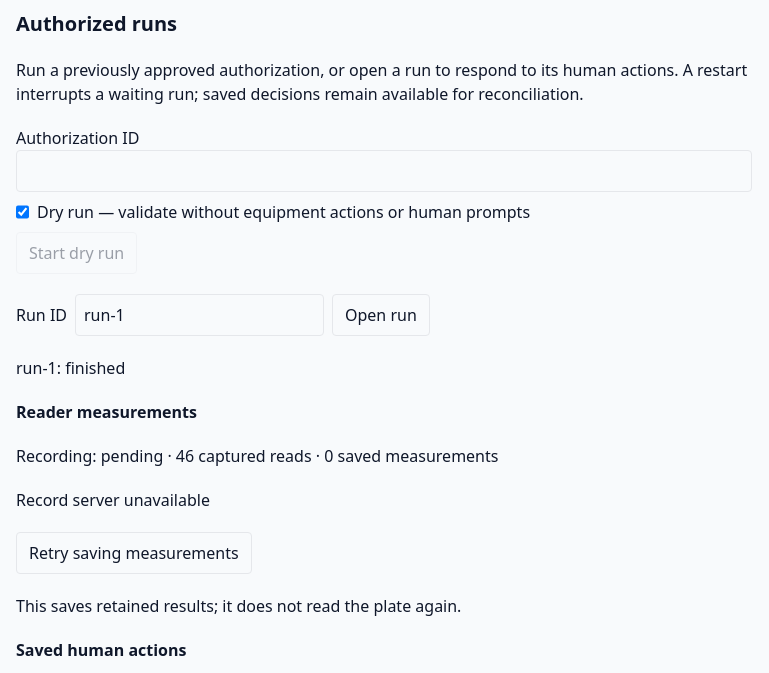
retries retained recording without starting another equipment run
The width and height of the screenshot is (769, 673).
Expected: the text "Record server unavailable" is shown, [16,489,210,511]
Click the button "Retry saving measurements" at point(134, 553), box [16,532,252,574]
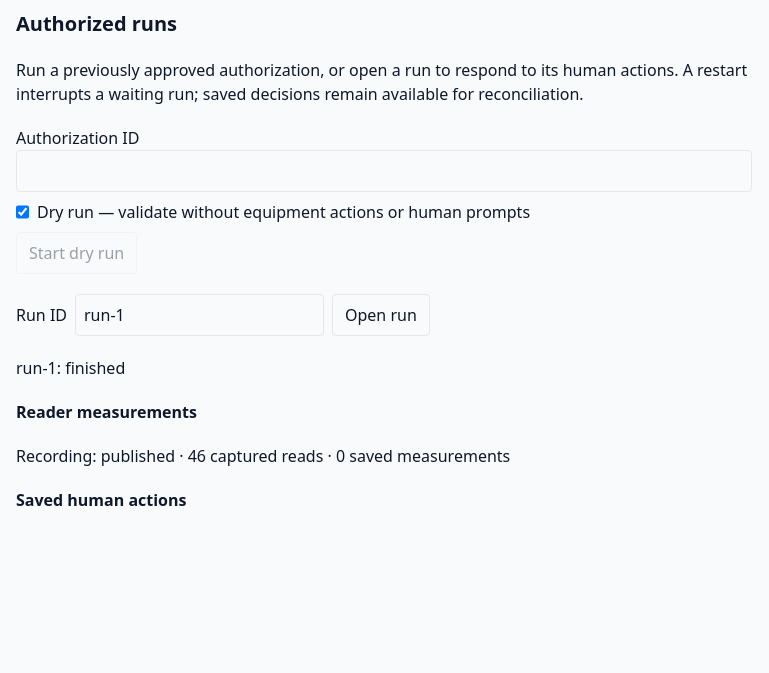
Now the text "Recording: published" is shown, box [16,445,510,467]
